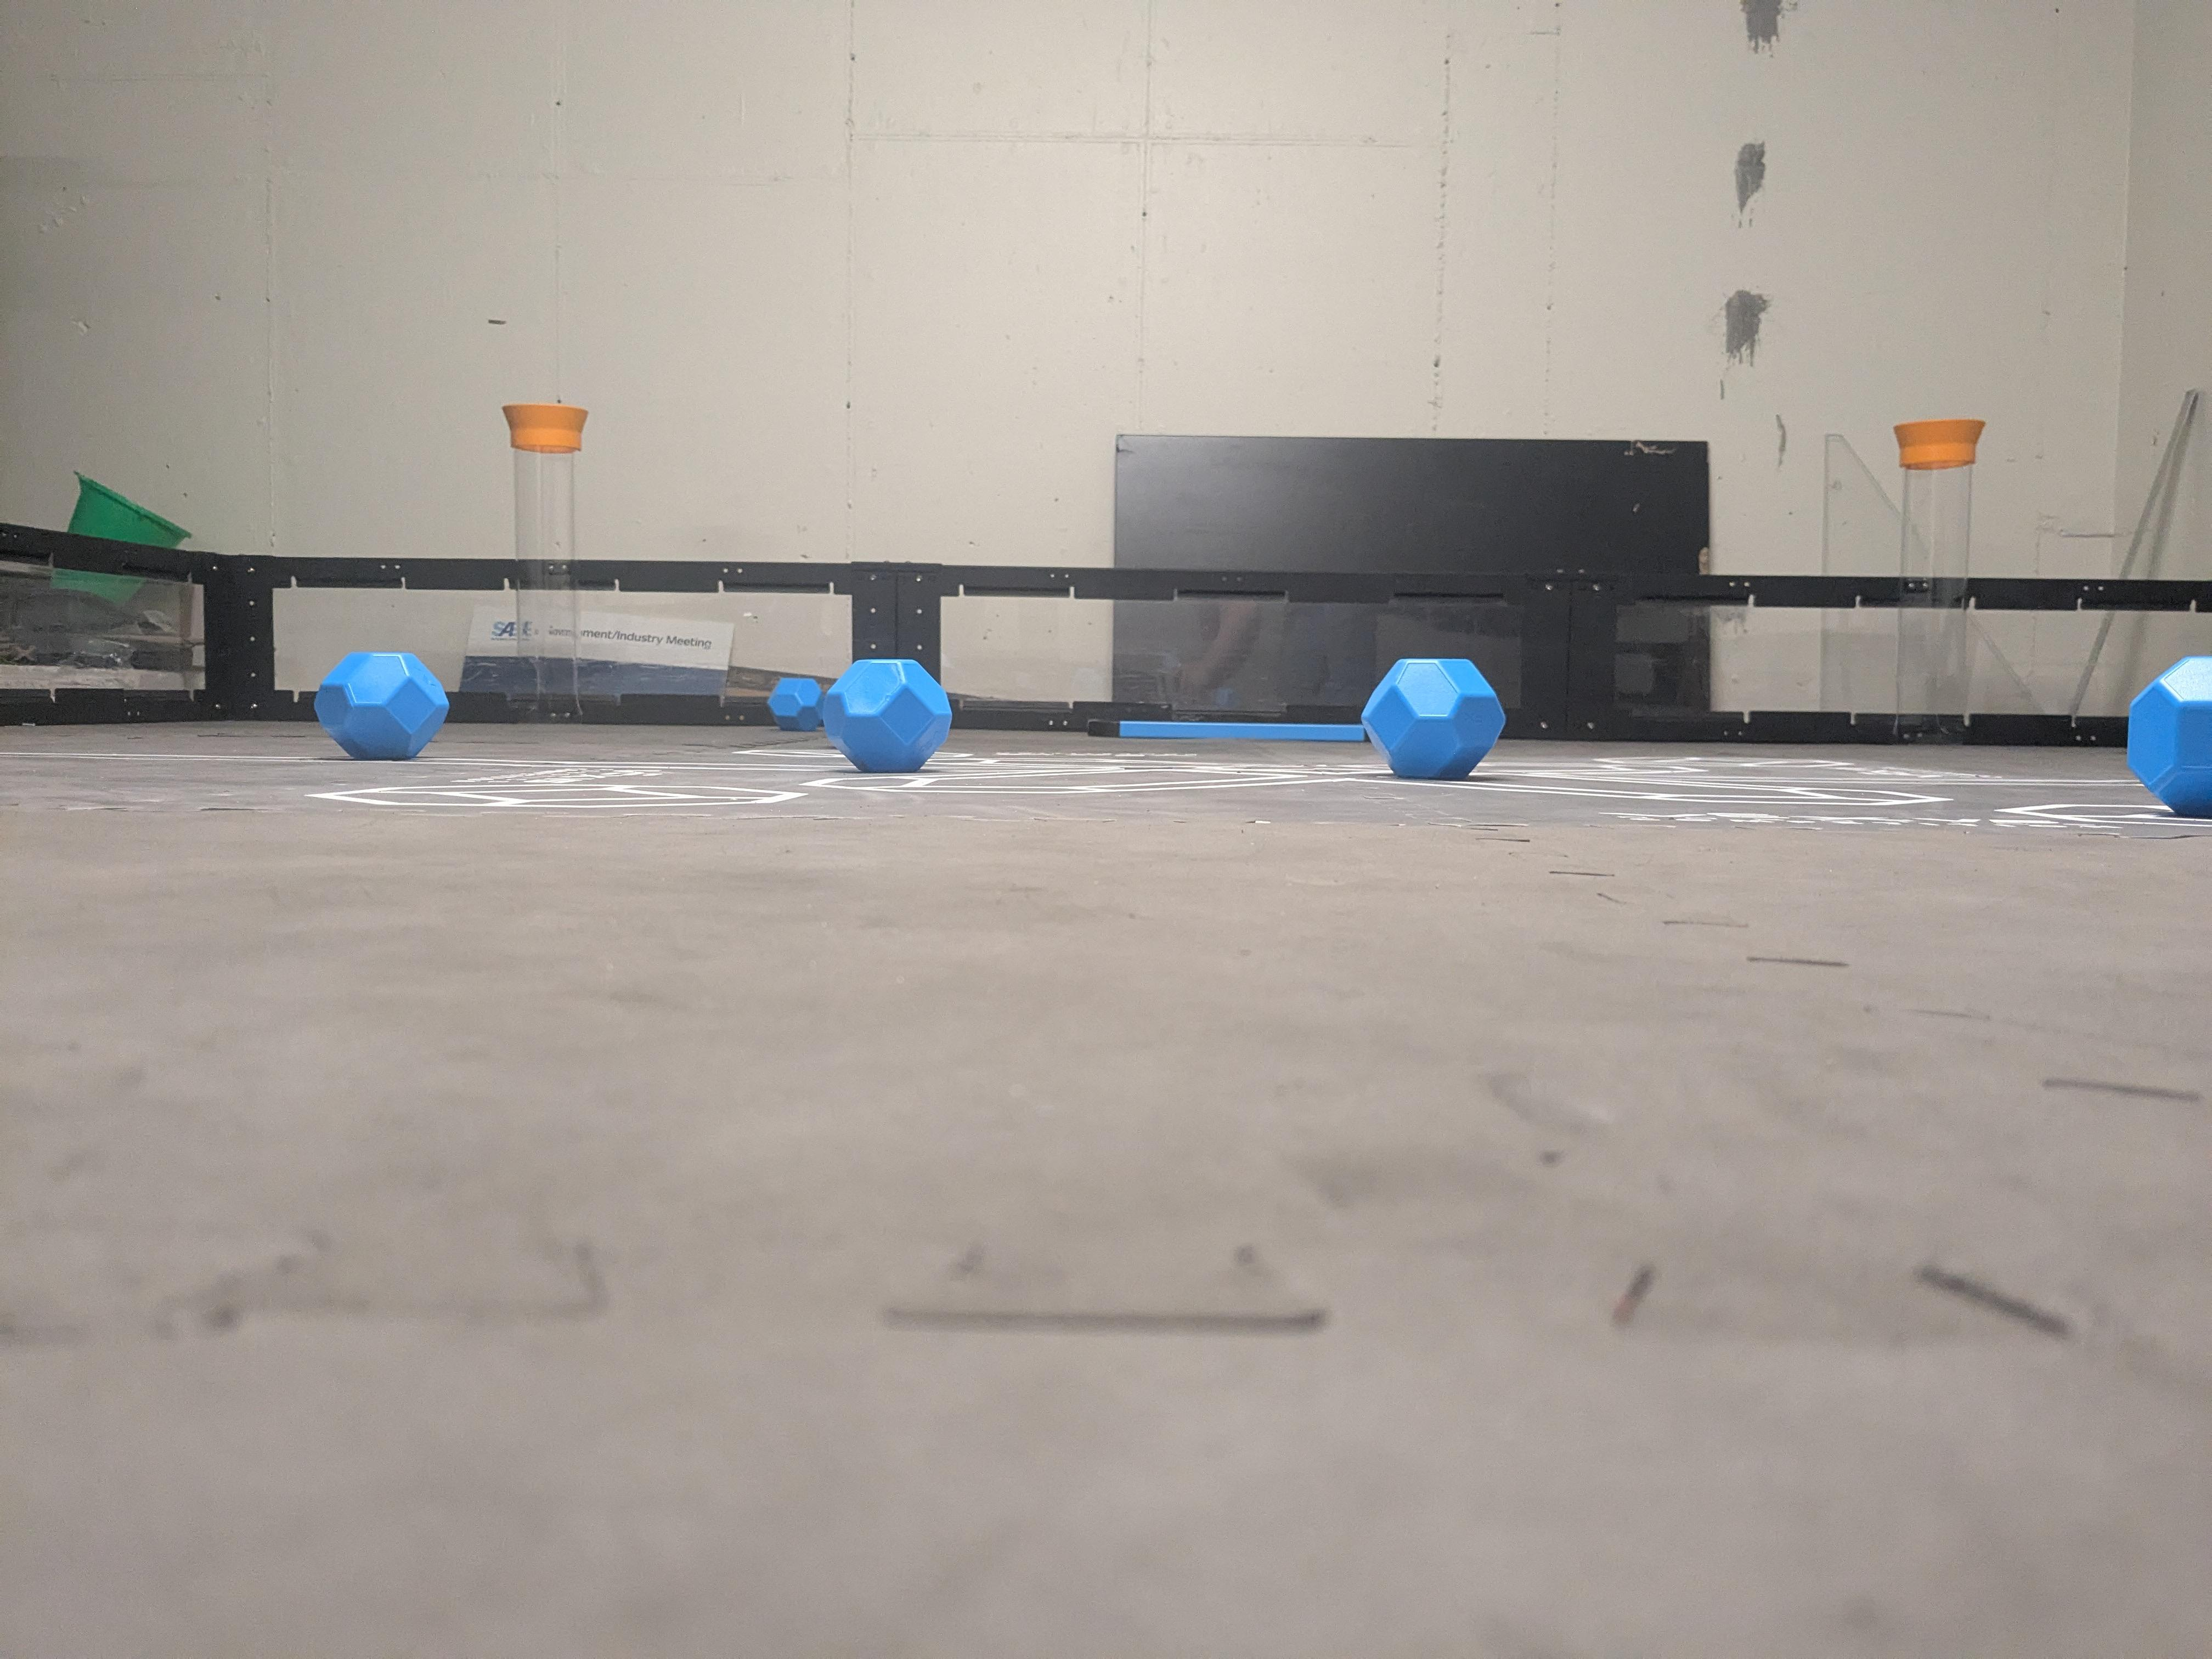Vex-Pieces-BLUE: (787, 660, 949, 772), (1362, 659, 1503, 774), (317, 653, 446, 755), (2128, 653, 2207, 819)
